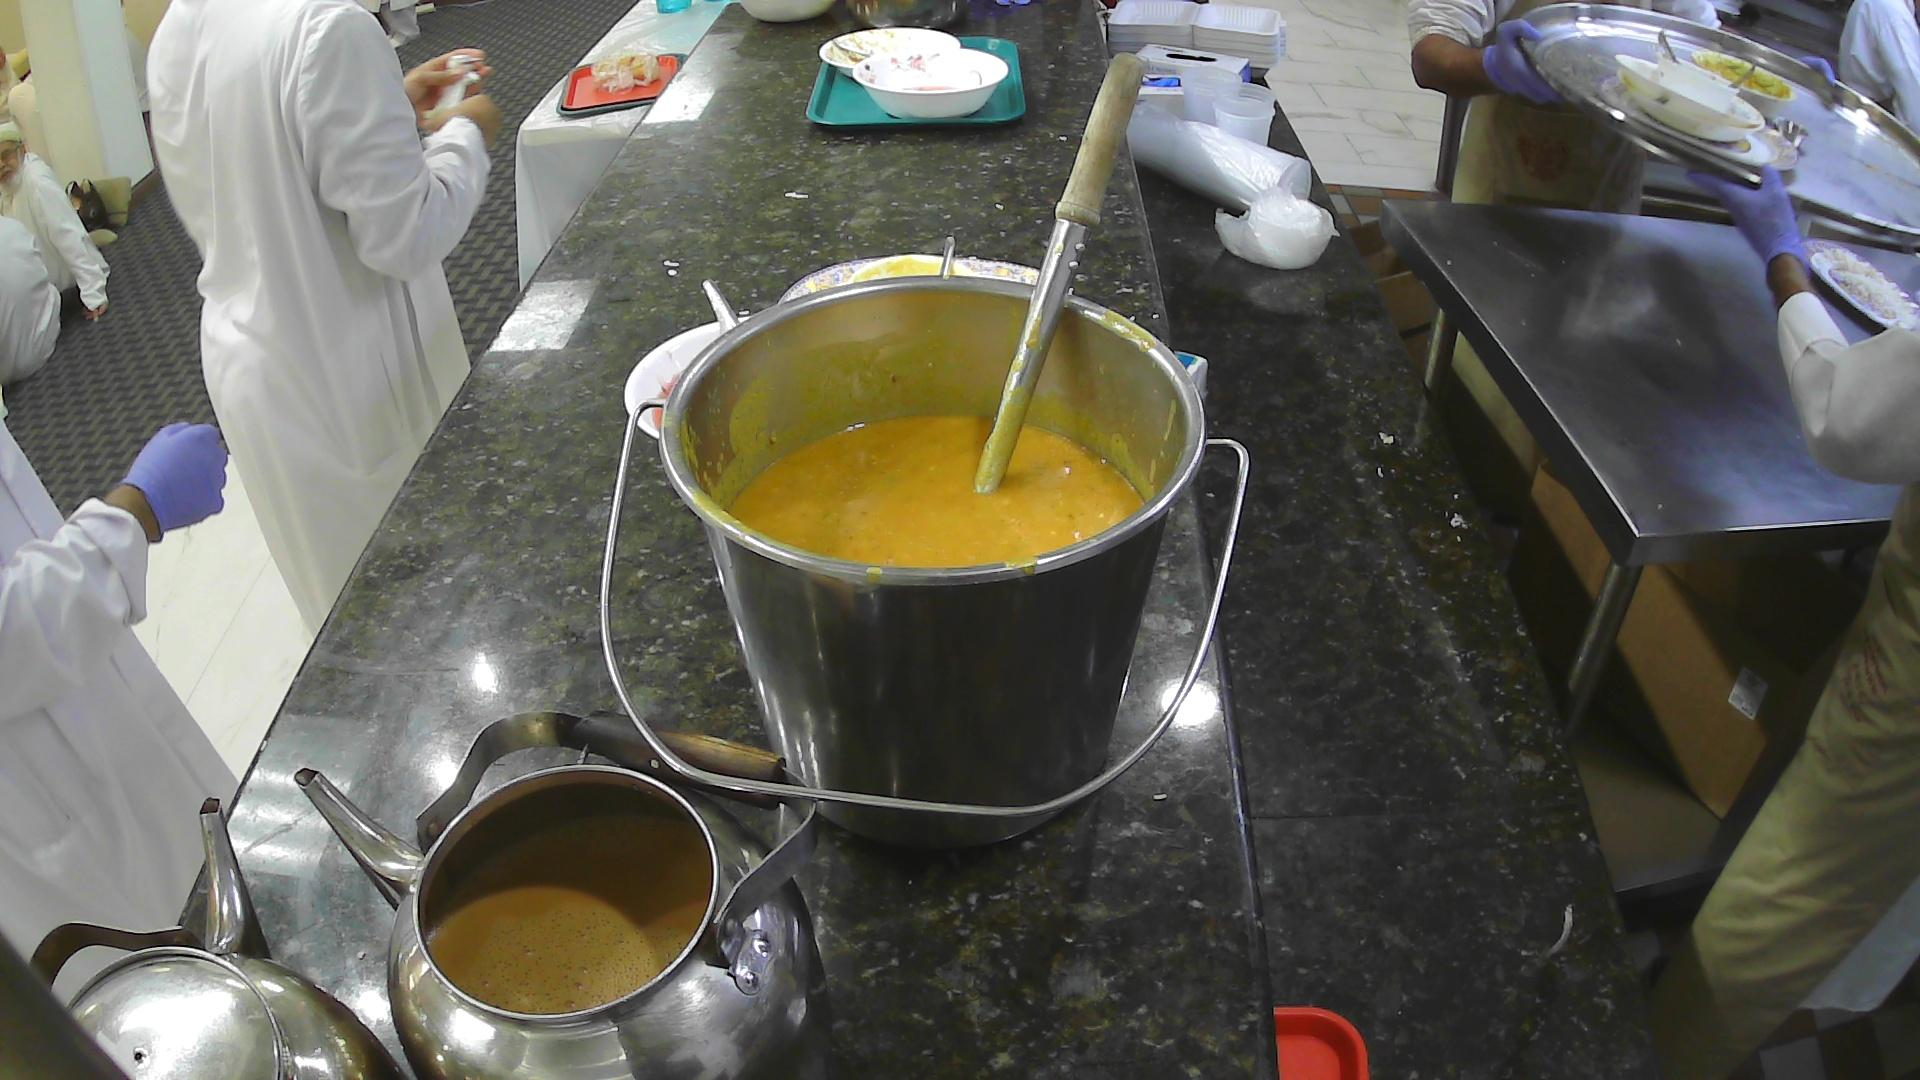thaal: (1514, 1, 1920, 251)
